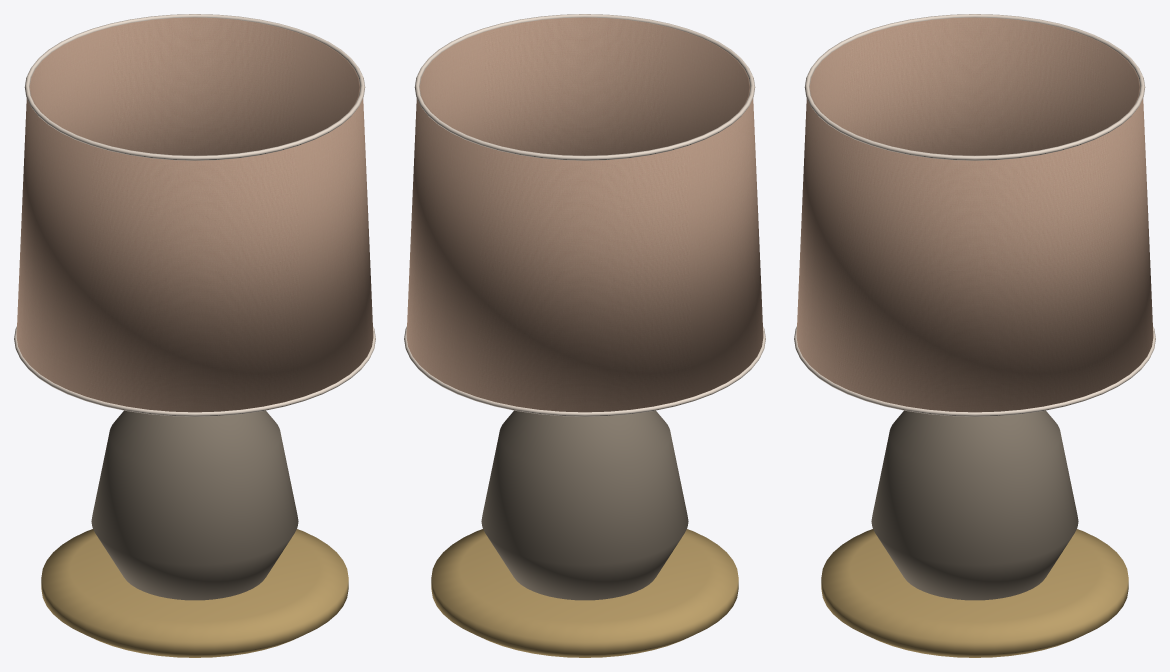
File: contemporary.table_lamp.gltf
The picture shows the model from 3 angles, left to right: view 1: azimuth 30°, elevation 25°; view 2: azimuth 150°, elevation 25°; view 3: azimuth 270°, elevation 25°; orthographic projection.
Visible parts, largest first — view 1: contemporary.table_lamp.foot; view 2: contemporary.table_lamp.foot; view 3: contemporary.table_lamp.foot.
Boxes of the visible parts, box(x1,y1,x2,y2) form: contemporary.table_lamp.foot: box(14, 14, 375, 657); contemporary.table_lamp.foot: box(404, 14, 765, 657); contemporary.table_lamp.foot: box(794, 14, 1155, 657).
Bounding box in the file's own units: 0.294 × 0.4617 × 0.294.
5 materials, 1 textured.
